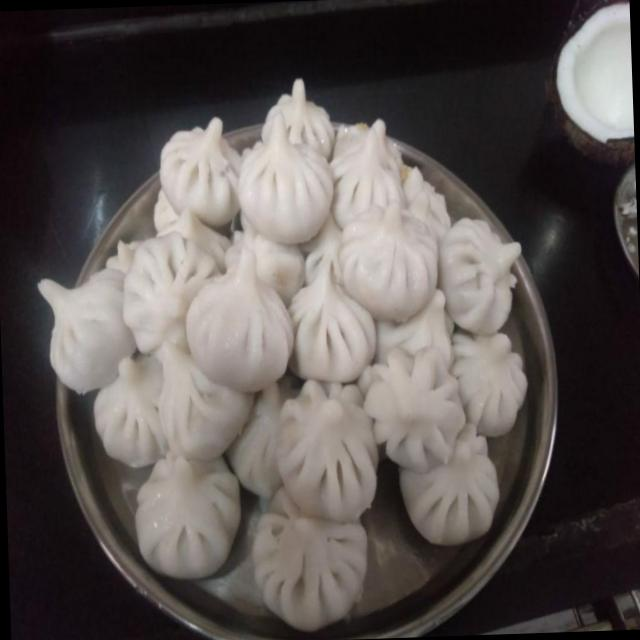modak: (31, 64, 538, 639)
